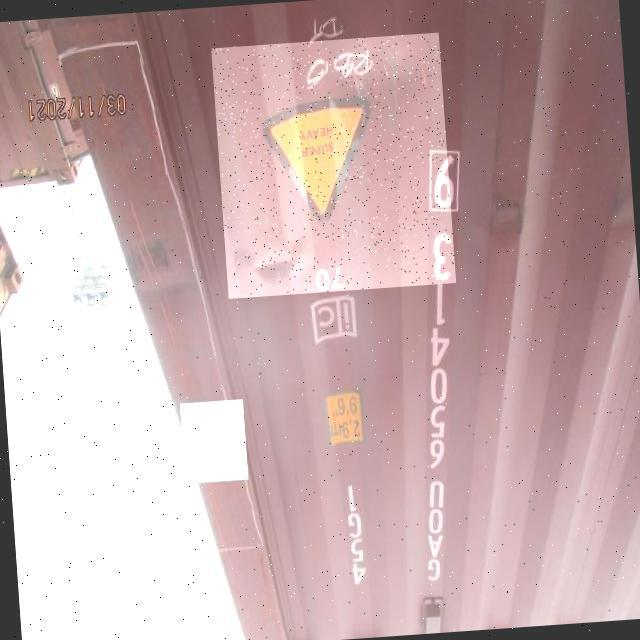Dent: (211, 32, 456, 298)
